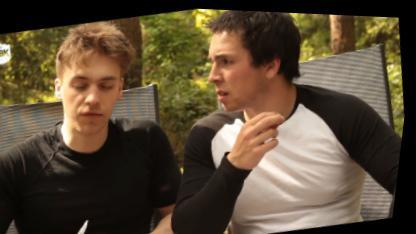knife: (47, 211, 103, 233)
